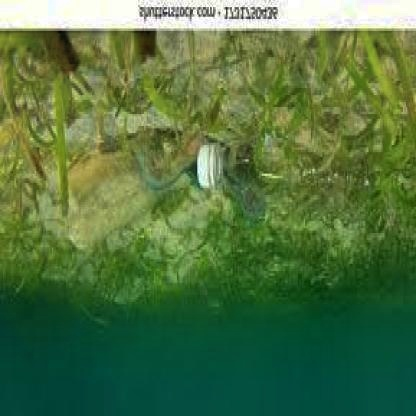pbottle: (187, 121, 380, 247)
